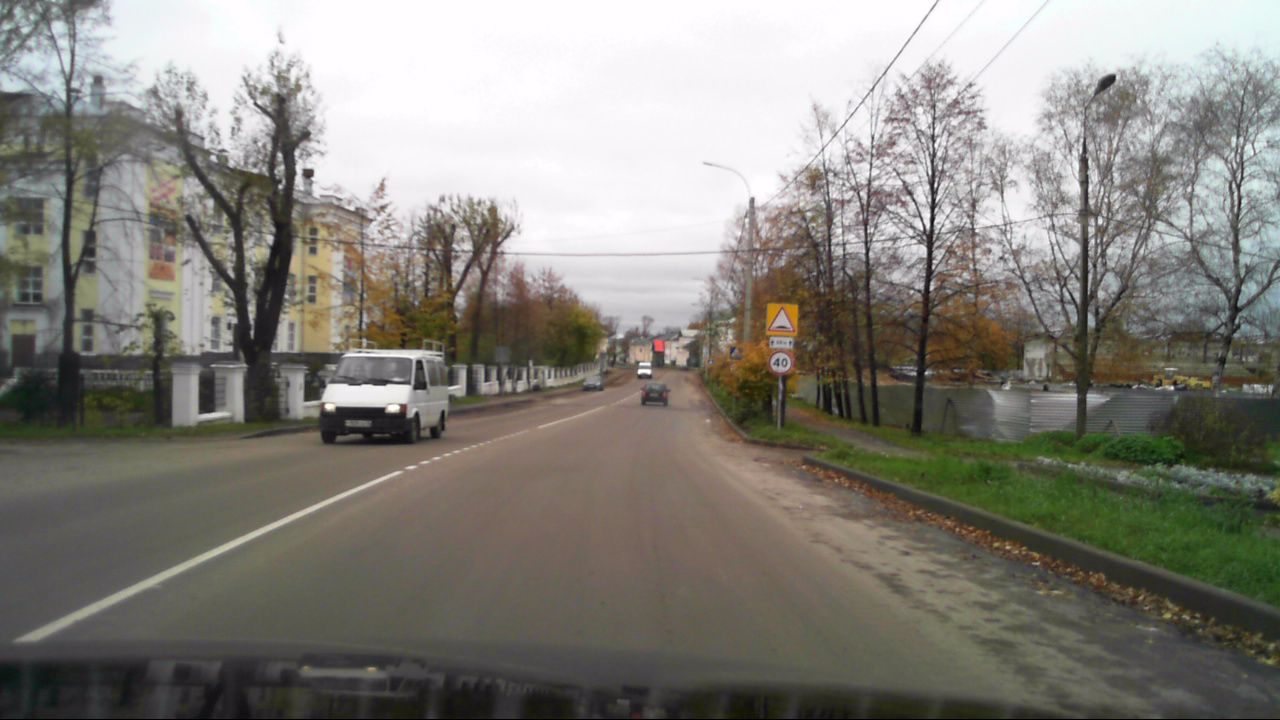speed_warning_40: (769, 351, 791, 373)
